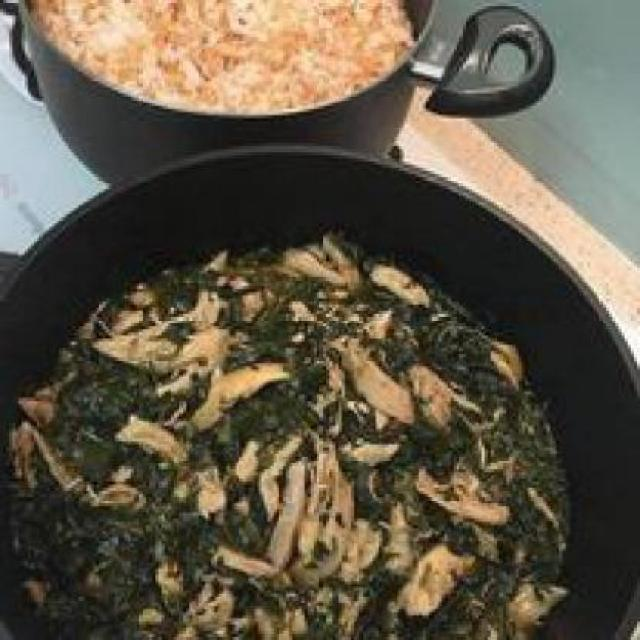molokhia: (3, 220, 585, 637)
